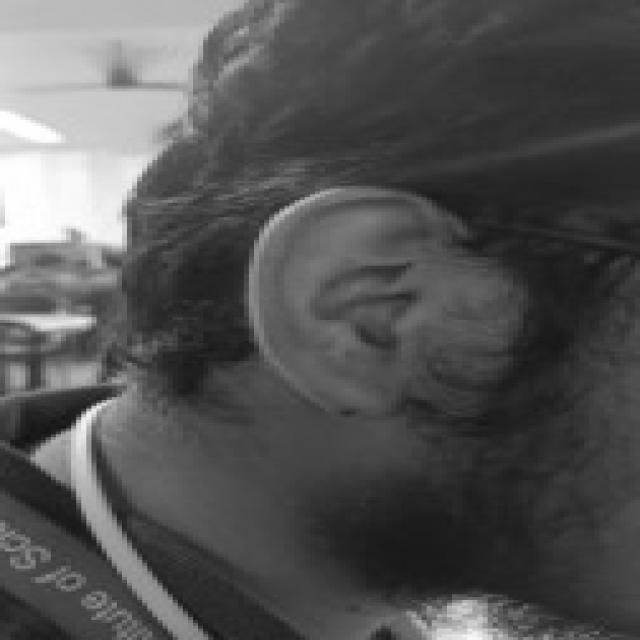ear: (254, 186, 452, 411)
